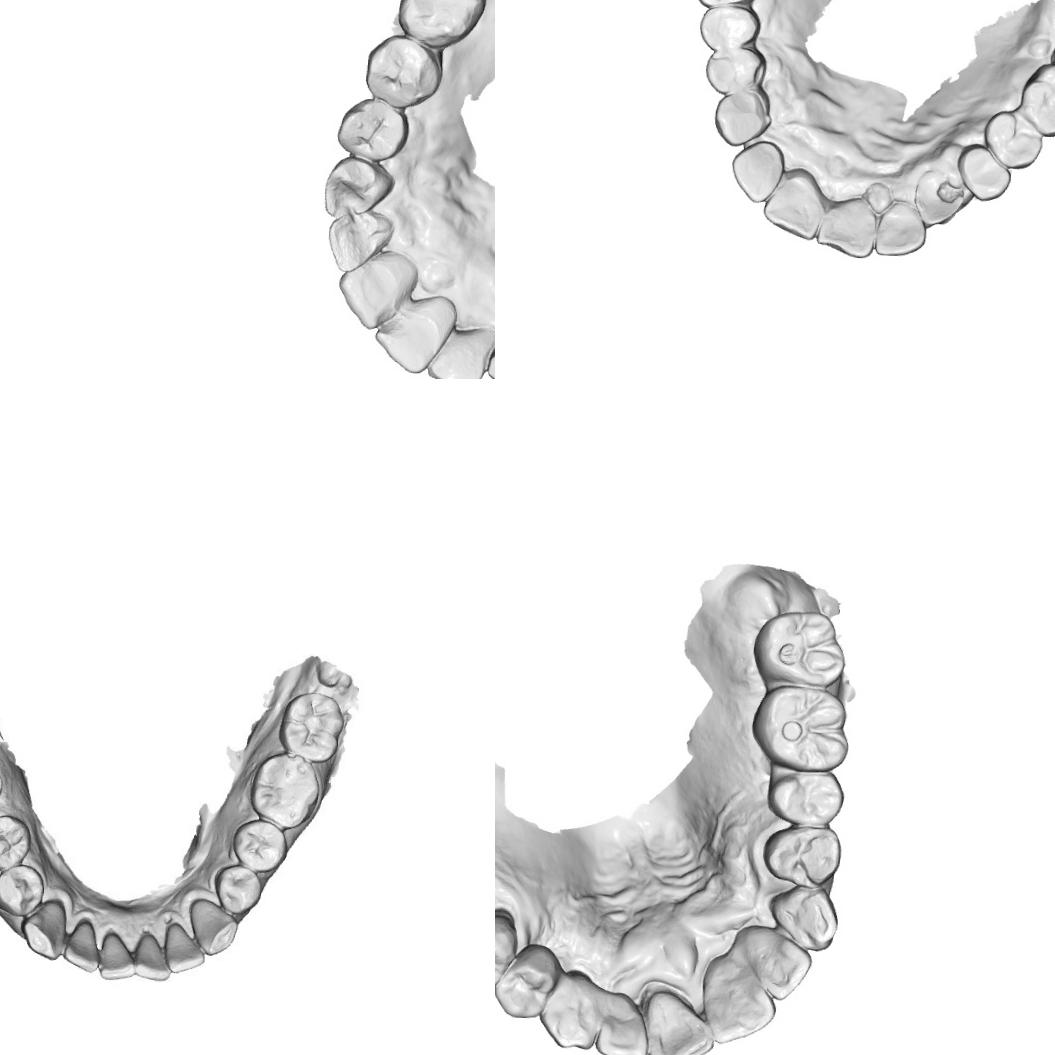canine: (536, 969, 602, 1052), (762, 882, 840, 952), (318, 152, 395, 222), (712, 88, 771, 148), (912, 168, 964, 230), (186, 895, 236, 957), (20, 904, 67, 961)
incisor: (697, 953, 780, 1047), (734, 921, 814, 1003), (370, 300, 448, 378), (639, 988, 716, 1055), (760, 165, 828, 240), (334, 261, 404, 331), (814, 194, 876, 258), (324, 210, 384, 276), (592, 988, 651, 1055), (728, 138, 786, 204), (423, 332, 492, 379), (873, 200, 928, 258), (130, 926, 170, 983), (62, 914, 101, 969), (164, 920, 203, 970), (98, 930, 132, 980)
molar: (748, 684, 850, 776), (747, 605, 851, 688), (246, 750, 322, 830), (276, 688, 347, 766), (393, 0, 488, 53), (1017, 61, 1055, 138)
premolar: (358, 30, 444, 111), (758, 822, 844, 890), (333, 94, 411, 164), (764, 768, 846, 831), (495, 941, 557, 1024), (982, 108, 1044, 170), (955, 141, 1012, 202), (702, 44, 766, 96), (229, 816, 287, 873), (696, 3, 760, 52), (212, 864, 264, 916), (0, 865, 47, 914), (0, 808, 30, 871), (495, 911, 518, 993)
